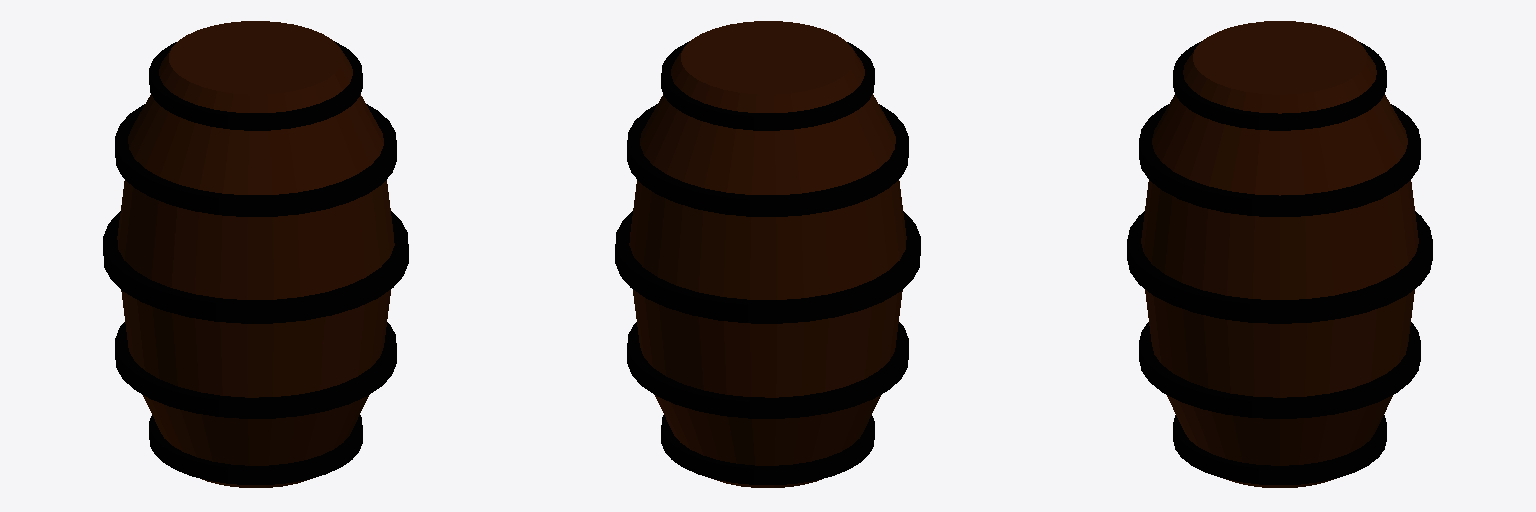
Rendered from barrel.obj.
The picture shows the model from 3 angles: view 1: azimuth 30°, elevation 25°; view 2: azimuth 150°, elevation 25°; view 3: azimuth 270°, elevation 25°; orthographic projection.
Visible parts, largest first — view 1: Cylinder; view 2: Cylinder; view 3: Cylinder.
Boxes of the visible parts, box(x1,y1,x2,y2) form: Cylinder: box(103, 21, 408, 487); Cylinder: box(615, 21, 920, 487); Cylinder: box(1127, 21, 1432, 487).
Size of the model in its own units: 3.78 by 5.4 by 3.78.